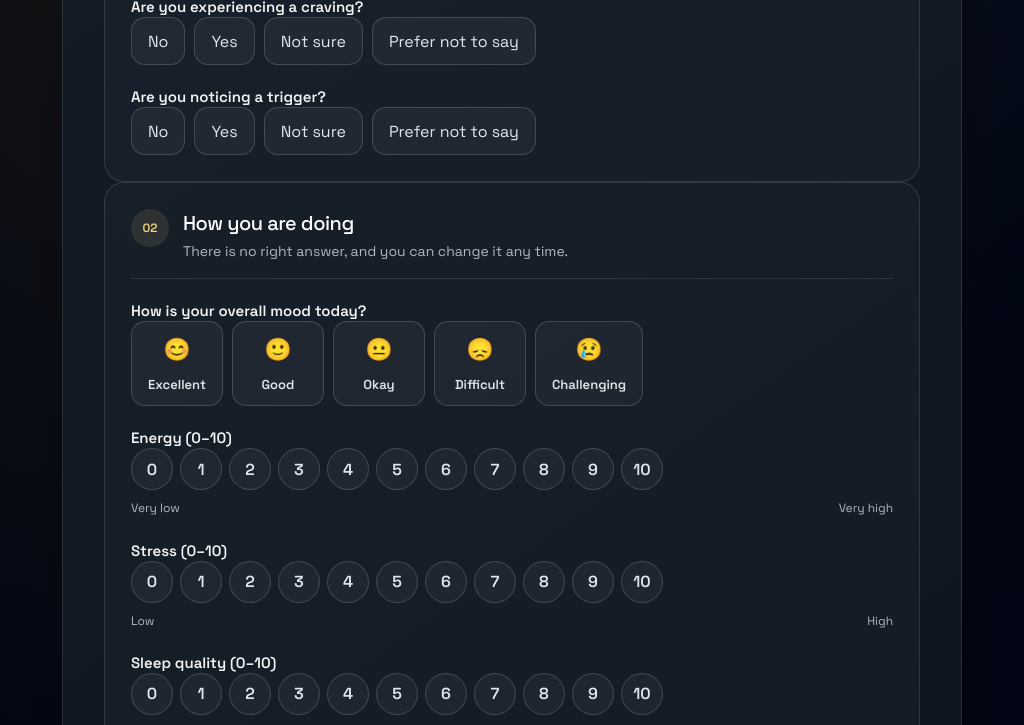
Test: recovery check-in › saves an account check-in and notifies its parent after persistence
The width and height of the screenshot is (1024, 725).
(page scrolled)
Click the button "😊 Excellent": (177, 364) [131,321,223,406]
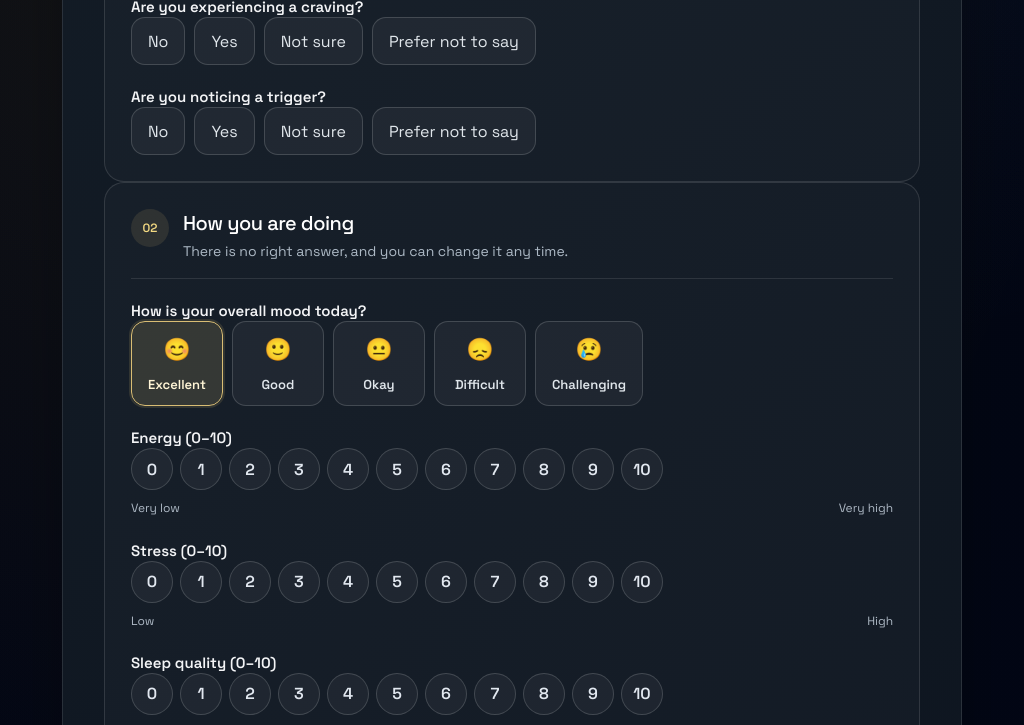
Click the button "Yes" below "Are you experiencing a craving?": (225, 41) [194,17,255,65]
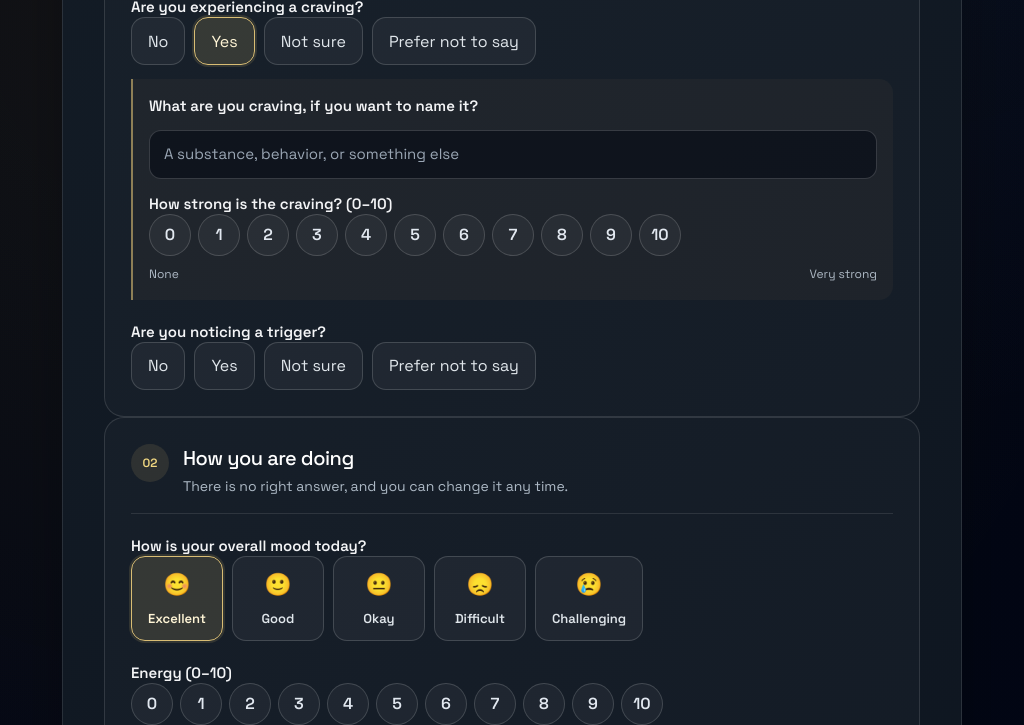
In the field labelled "What are you craving, if you want to name it?": (513, 155) [149,130,877,179], type "alcohol"
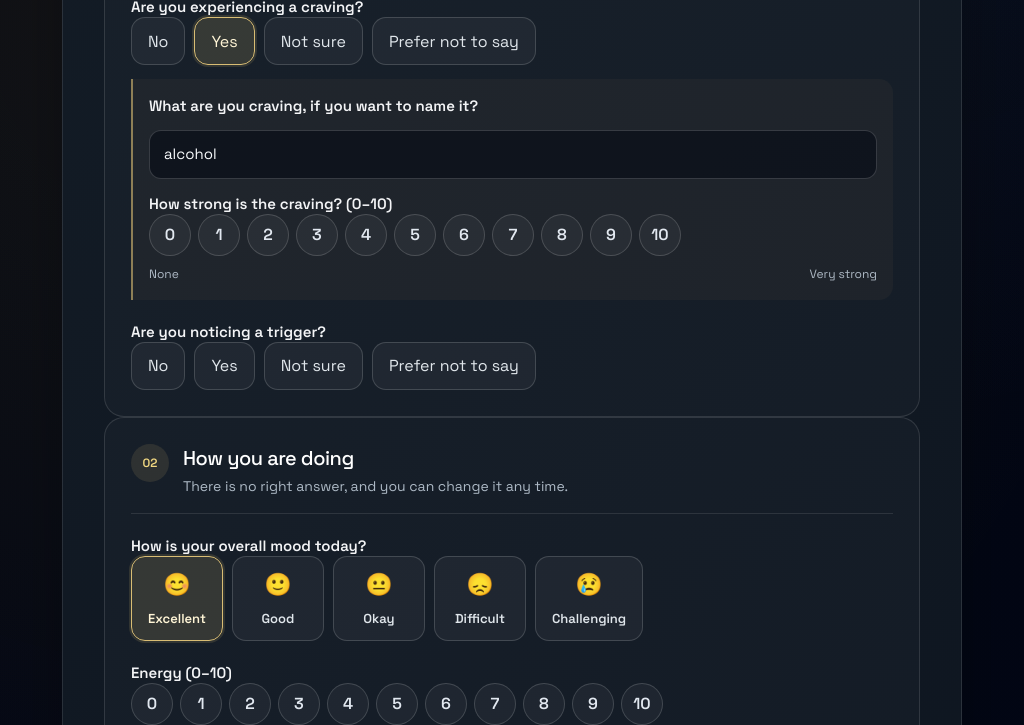
Click the button "7" below "How strong is the craving? (0–10)": (513, 235) [492,214,534,256]
(page scrolled)
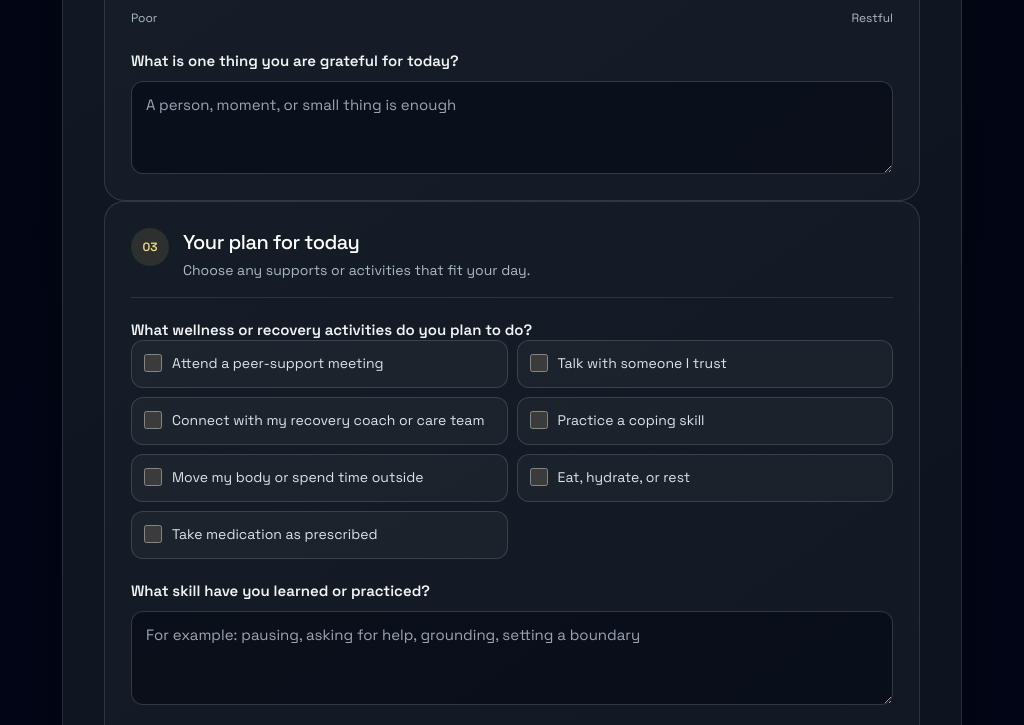
Click the checkbox labelled "Attend a peer-support meeting": (153, 363) [144,354,162,372]
(page scrolled)
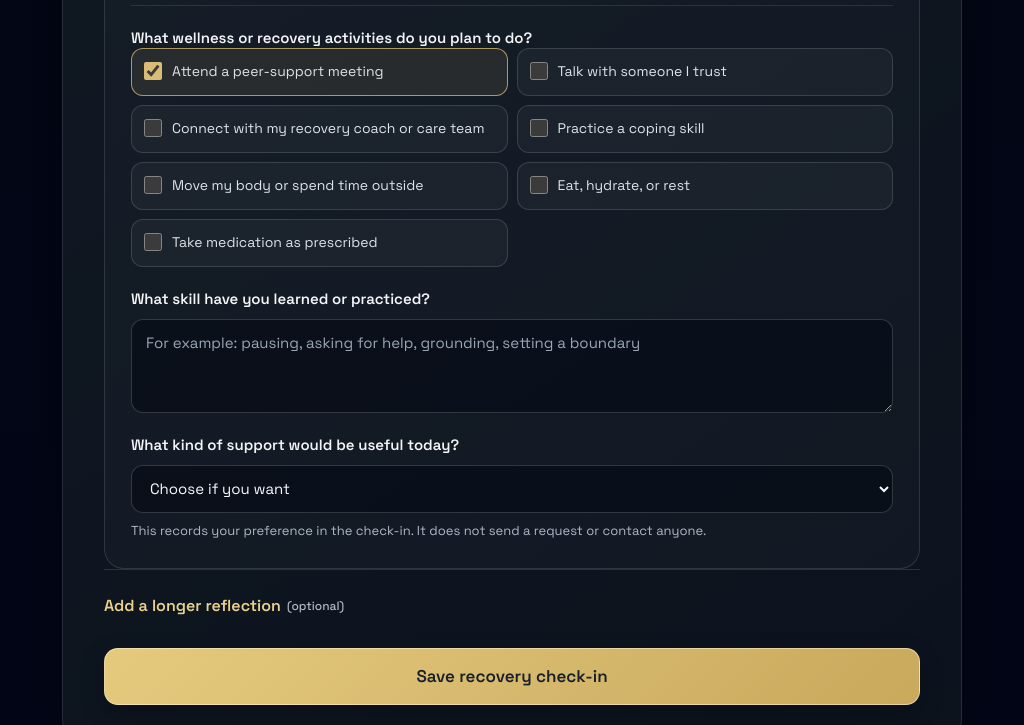
Click the button "Save recovery check-in": (512, 677) [104,648,920,705]
(page scrolled)
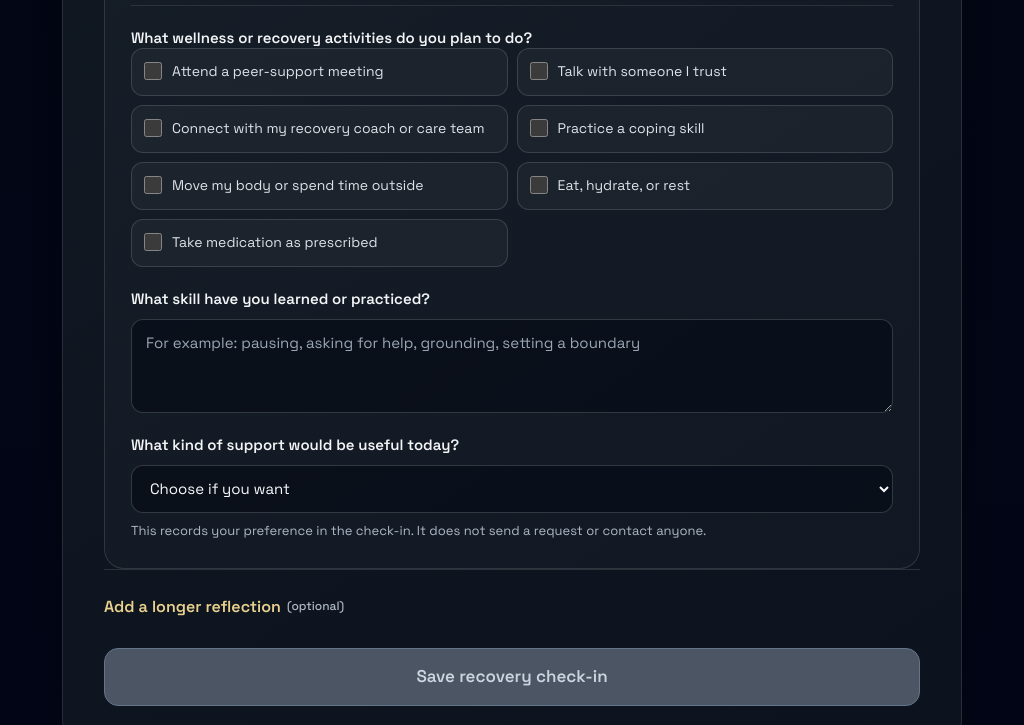
Expected: the button "Save recovery check-in" is disabled, [104,648,920,706]
